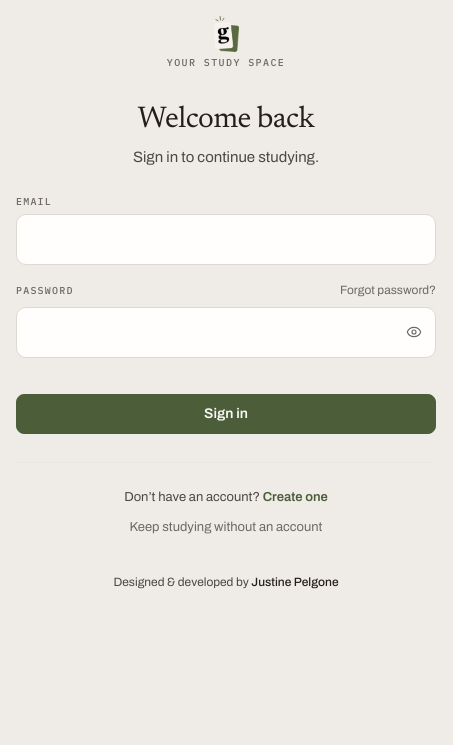
the other two ways in › drops an error when the mode changes
The image size is (453, 745).
Type "reader@example.com" into the field labelled "Email" at (226, 239), box left=16, top=214, right=436, bottom=265
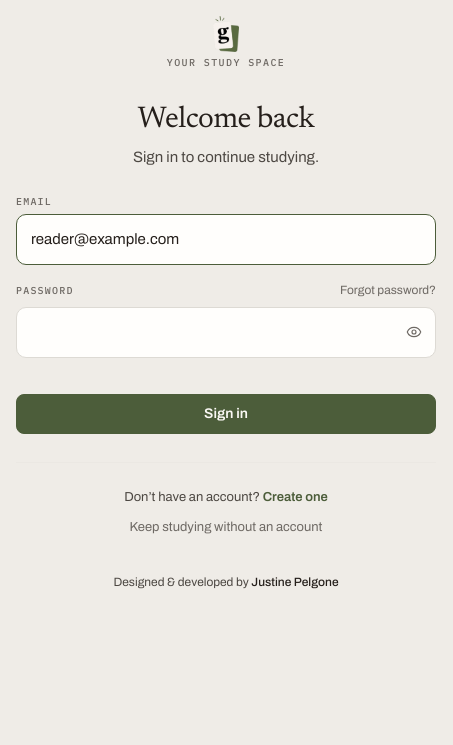
Type "wrong" into the password field labelled "Password" at (226, 332), box left=16, top=307, right=436, bottom=358
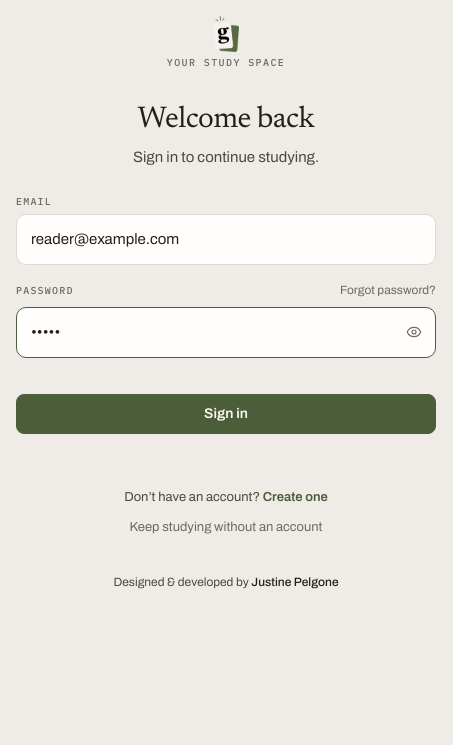
Click the button "Sign in" at (226, 414), box left=16, top=394, right=436, bottom=434
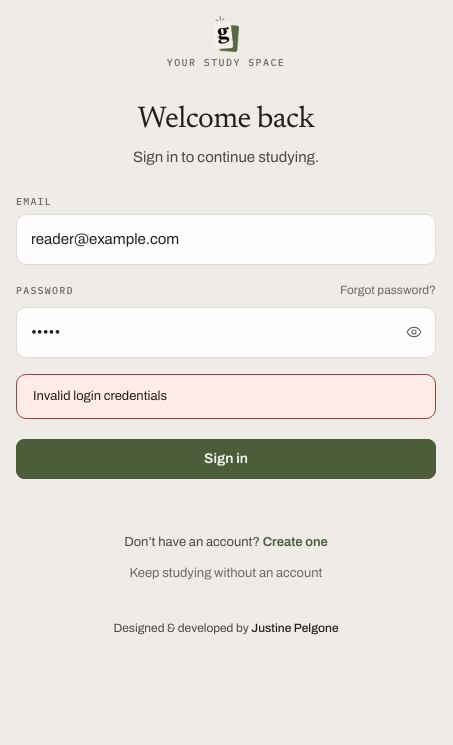
Check: the text "Invalid login credentials" is shown, box left=16, top=374, right=436, bottom=419
Click the button "Create one" at (295, 542), box left=263, top=532, right=328, bottom=552
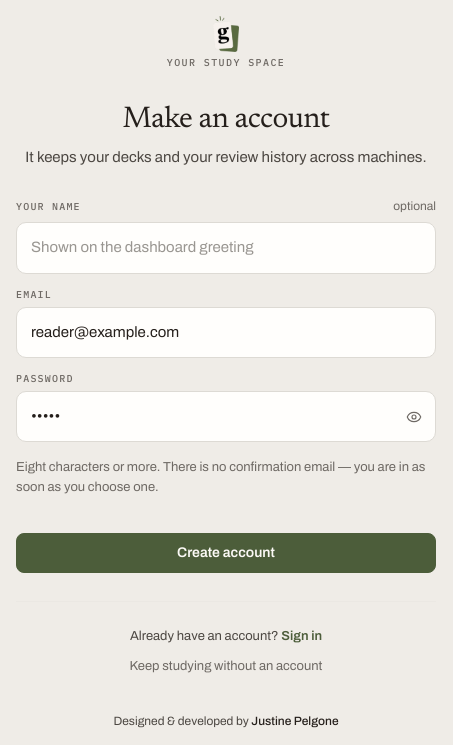
Check: the text "Invalid login credentials" is gone
